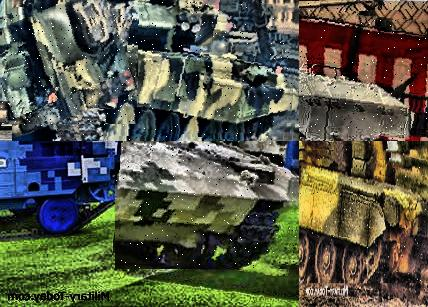tanks: (13, 1, 295, 142), (117, 142, 297, 270), (300, 146, 428, 283), (2, 16, 138, 125), (300, 74, 410, 142)
